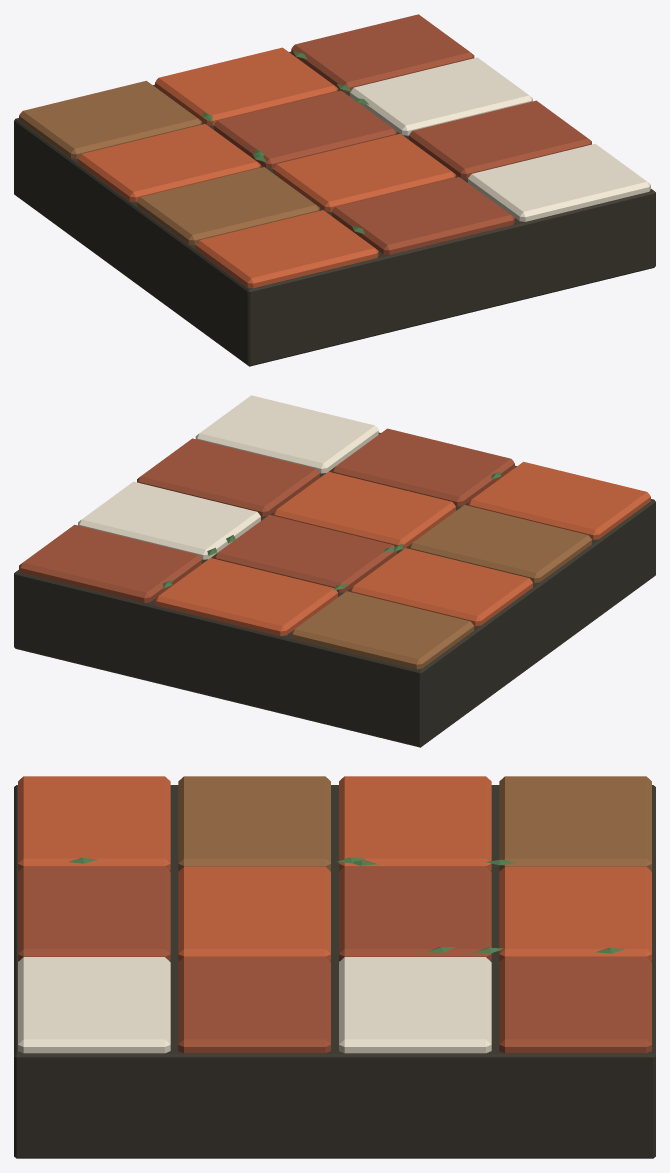
The model's file is kit_floor_commons.glb.
3 views of the same model, one above another, from view 1: azimuth 30°, elevation 25°; view 2: azimuth 150°, elevation 25°; view 3: azimuth 270°, elevation 25° (orthographic). The views are drawn at different scales.
Parts seen in each view (by area): view 1: kit_floor_commons_mesh; view 2: kit_floor_commons_mesh; view 3: kit_floor_commons_mesh.
Part boxes in pixels (box(x1,y1,x2,y2)): kit_floor_commons_mesh: box(14, 14, 655, 366); kit_floor_commons_mesh: box(14, 395, 655, 747); kit_floor_commons_mesh: box(14, 776, 655, 1158).
Size of the model in its own units: 1 by 0.2068 by 1.
